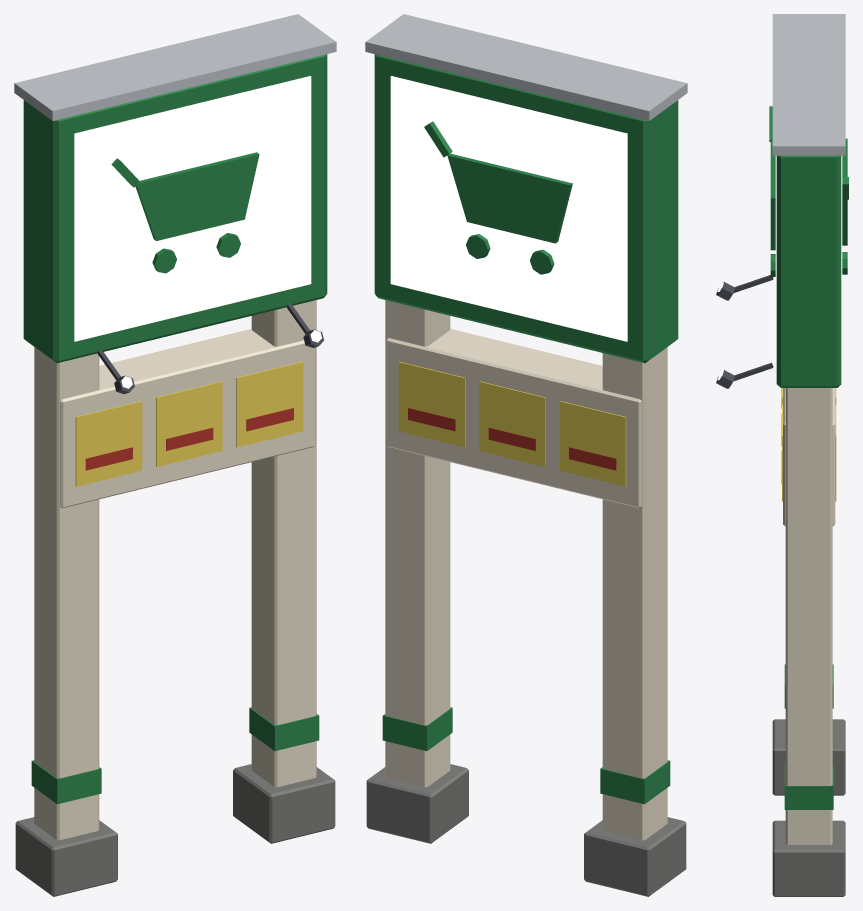
File: Pylon_Supermarket_Tall.fbx
3 views of the same model, side by side, from view 1: azimuth 30°, elevation 25°; view 2: azimuth 150°, elevation 25°; view 3: azimuth 270°, elevation 25° (orthographic). The views are drawn at different scales.
Parts seen in each view (by area): view 1: Pylon_Supermarket_Tall; view 2: Pylon_Supermarket_Tall; view 3: Pylon_Supermarket_Tall.
Boxes of the visible parts, <box> form: Pylon_Supermarket_Tall: <box>14,14,336,896</box>; Pylon_Supermarket_Tall: <box>365,14,687,896</box>; Pylon_Supermarket_Tall: <box>716,14,848,896</box>.
Size of the model in its own units: 3 by 7.95 by 1.27.
1 material, 1 textured.
